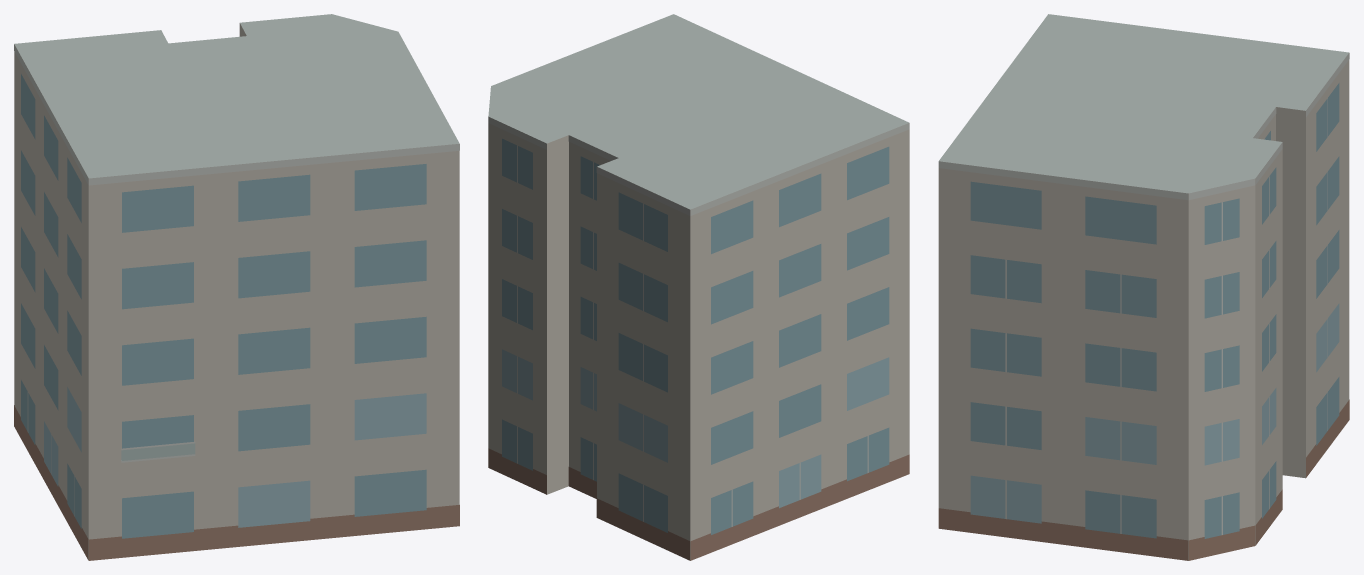
Rendered from survey-upis-32869379.glb.
The picture shows the model from 3 angles, left to right: view 1: azimuth 30°, elevation 25°; view 2: azimuth 150°, elevation 25°; view 3: azimuth 270°, elevation 25°; orthographic projection. The views are drawn at different scales.
Visible parts, largest first — view 1: survey-upis-32869379.tmp; view 2: survey-upis-32869379.tmp; view 3: survey-upis-32869379.tmp.
Part boxes in pixels (x1,y1,x2,y2): survey-upis-32869379.tmp: (14,14,459,560); survey-upis-32869379.tmp: (488,14,909,560); survey-upis-32869379.tmp: (938,14,1349,560).
Bounding box in the file's own units: 13.84 × 13.2 × 13.39.
